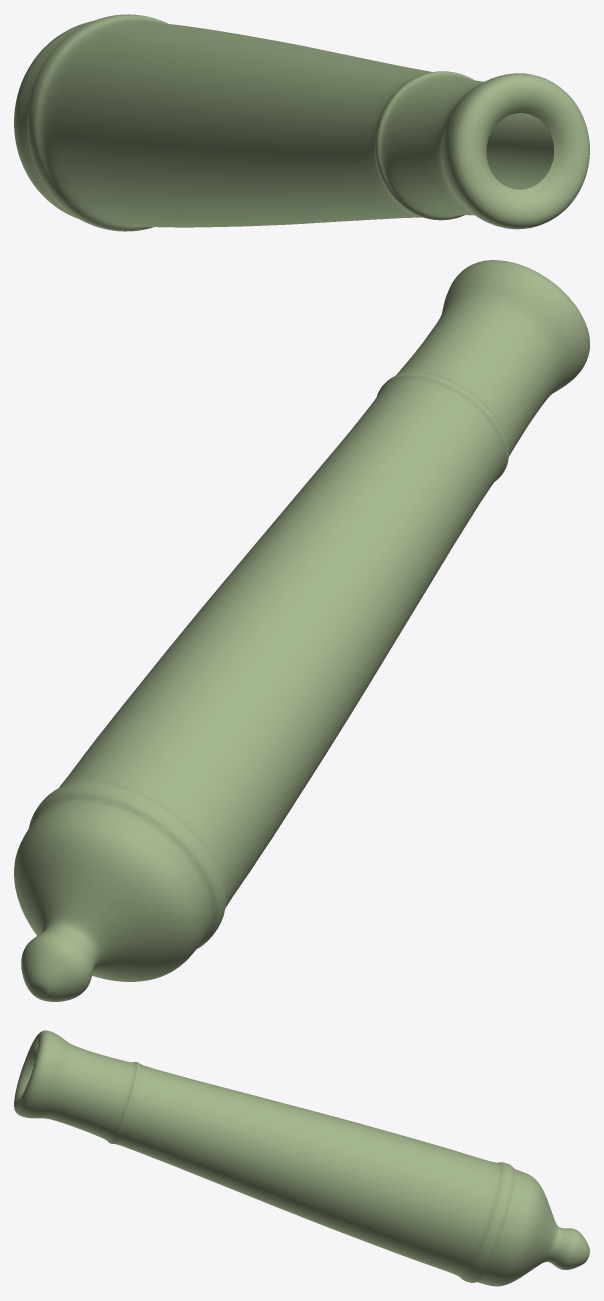
Rendered from cannon-barrel.glb.
3 views of the same model, one above another, from view 1: azimuth 30°, elevation 25°; view 2: azimuth 150°, elevation 25°; view 3: azimuth 270°, elevation 25° (orthographic). The views are drawn at different scales.
Parts seen in each view (by area): view 1: trees; view 2: trees; view 3: trees.
Part boxes in pixels (x1,y1,x2,y2): trees: (14, 14, 589, 231); trees: (14, 260, 589, 1001); trees: (14, 1030, 589, 1286).
Size of the model in its own units: 20.04 by 43.49 by 92.31.
